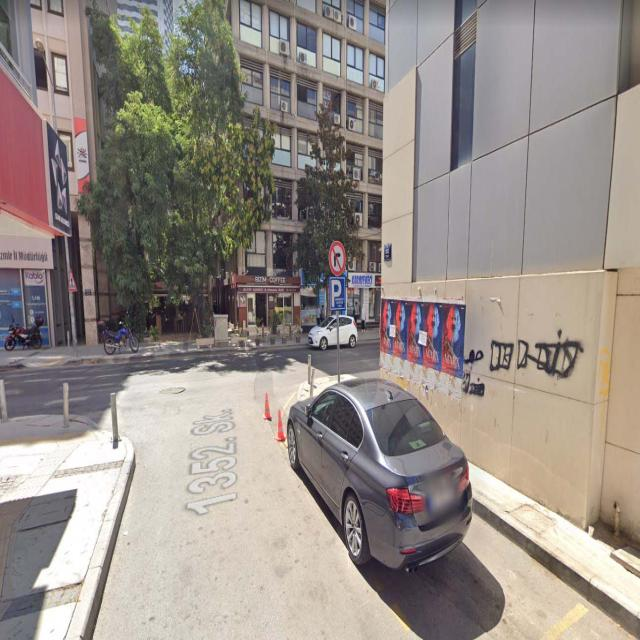park: (330, 277, 345, 309)
sagadonulmez: (330, 243, 346, 275)
